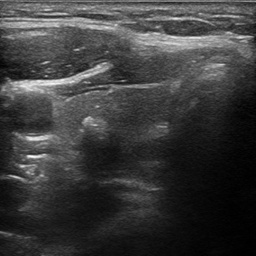mass: (80, 128, 130, 179)
